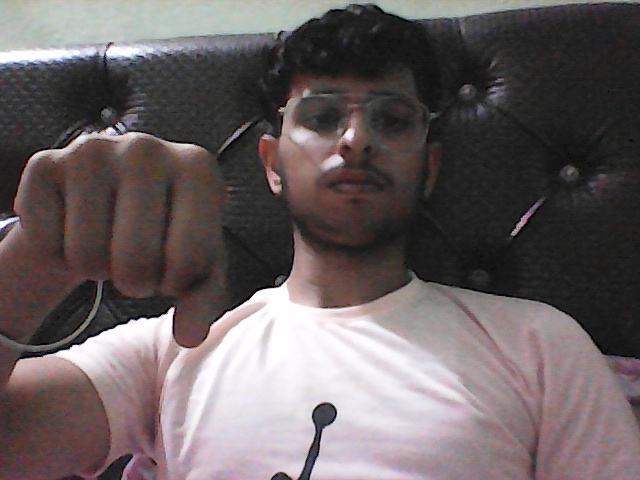yes: (1, 123, 236, 358)
